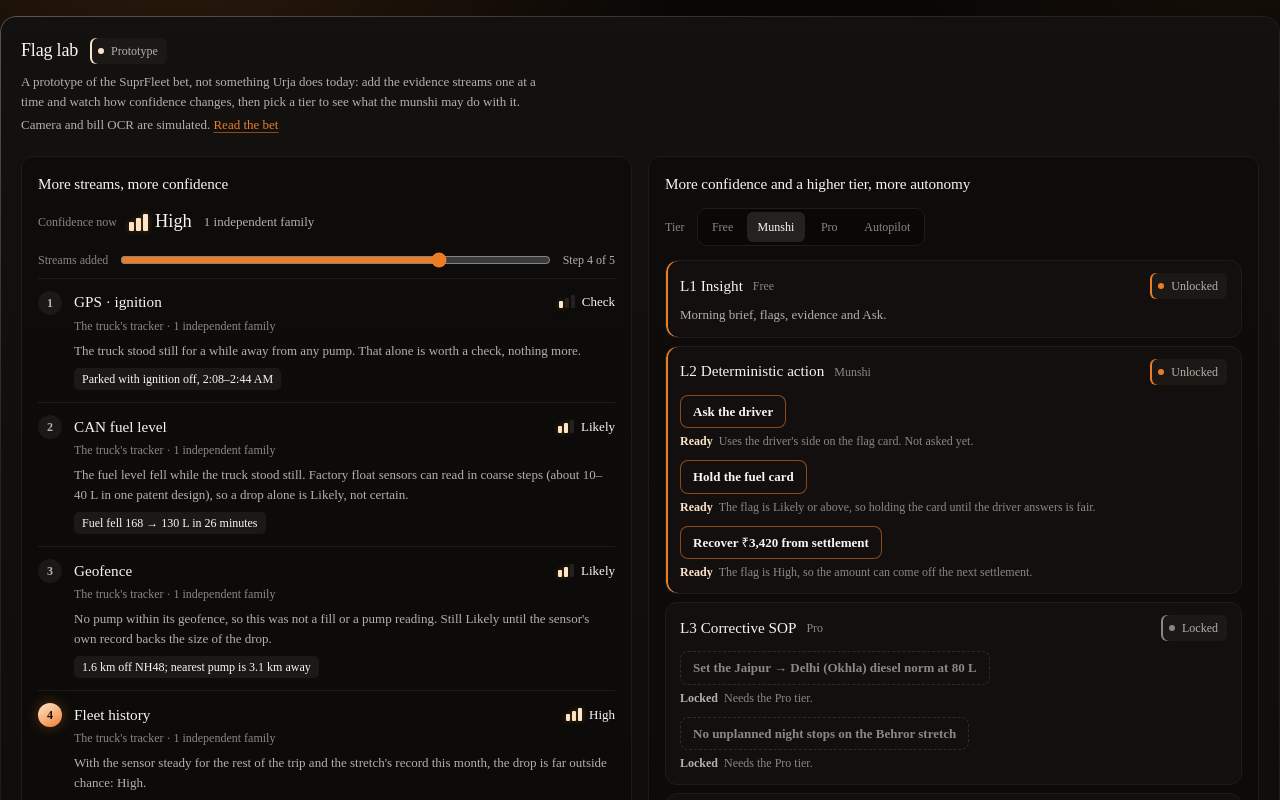
Scenario: FlagLab (0926-04, R1) › on Free only L1 is unlocked, and L1 shows its summary
Step 1. Click the button "Free" → [723, 227], box x1=701 y1=212 x2=745 y2=242
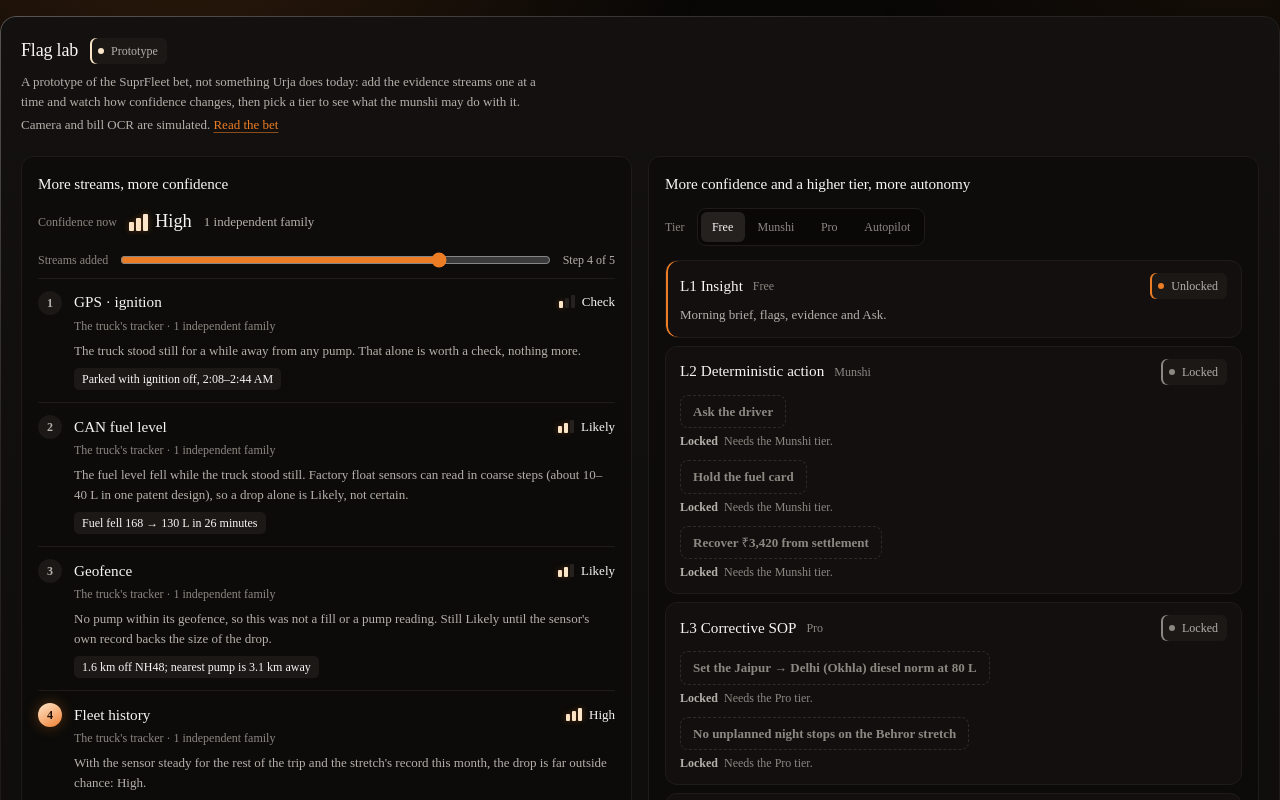
Expected: the list item that starts with "L1 Insight" shows "Morning brief, flags, evidence and Ask.", x1=680 y1=307 x2=886 y2=322
Expected: the button "Hold the fuel card" is disabled, x1=680 y1=460 x2=807 y2=494
